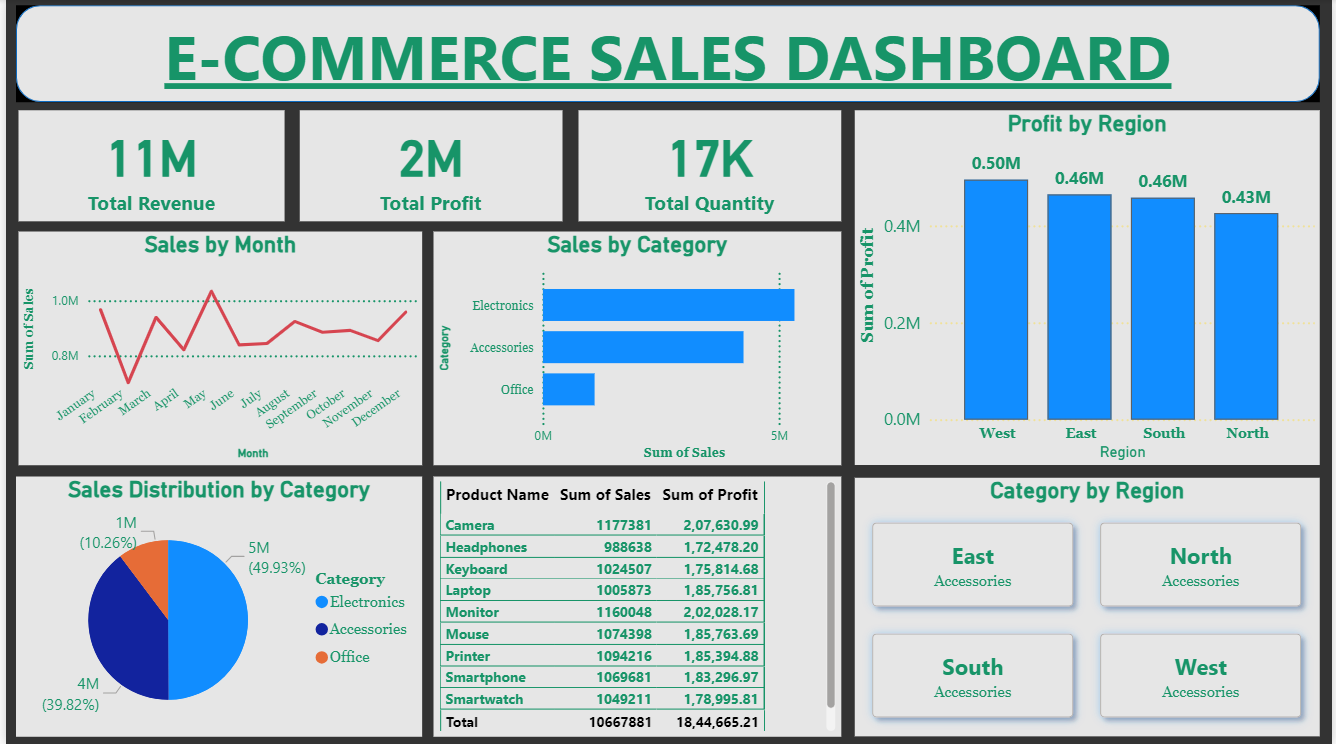

This screenshot's page, from the dashboard's own definition file:
{"tool":"powerbi","page":{"name":"Page 1","canvas":[1280,720],"ordinal":0},"visuals":[{"type":"card","fields":{"Values":["ecommerce_sales_data.Total Revenue"]},"box":[12.1,107.4,257,107.4],"z":0},{"type":"card","fields":{"Values":["ecommerce_sales_data.Total Profit"]},"box":[283.5,107.4,253.4,107.4],"z":1000},{"type":"card","fields":{"Values":["ecommerce_sales_data.Total Quantity"]},"box":[552.5,107.4,253.4,107.4],"z":2000},{"type":"lineChart","title":"Sales by Month","fields":{"Category":["ecommerce_sales_data.Order Date.Variation.Date Hierarchy.Month"],"Y":["Sum(ecommerce_sales_data.Sales)"]},"box":[12.1,224.4,389.7,225.6],"z":3000},{"type":"clusteredBarChart","title":"Sales by Category","fields":{"Category":["ecommerce_sales_data.Category"],"Y":["Sum(ecommerce_sales_data.Sales)"]},"box":[412.6,224.4,393.3,225.6],"z":4000},{"type":"pieChart","title":"Sales Distribution by Category","fields":{"Category":["ecommerce_sales_data.Category"],"Y":["Sum(ecommerce_sales_data.Sales)"]},"box":[9.7,460.9,392.1,250.9],"z":5000},{"type":"tableEx","fields":{"Values":["ecommerce_sales_data.Product Name","Sum(ecommerce_sales_data.Sales)","Sum(ecommerce_sales_data.Profit)"]},"box":[412.6,460.9,393.3,250.9],"z":6000},{"type":"columnChart","title":"Profit by Region","fields":{"Category":["ecommerce_sales_data.Region"],"Y":["Sum(ecommerce_sales_data.Profit)"]},"box":[819.2,107.4,448.8,342.6],"z":7000},{"type":"advancedSlicerVisual","title":"Category by Region","fields":{"Values":["ecommerce_sales_data.Region"],"Label":["Min(ecommerce_sales_data.Category)"]},"box":[819.2,462.1,448.8,249.7],"z":8000},{"type":"shape","box":[9.6,5.5,1258.3,93.3],"z":9000}]}

Visuals, with their boxes in screenshot pixels (x1, y1, x2, y2), scaled from the page's 1280x720 canvas onto the 1336x744 screenshot:
card - ecommerce_sales_data.Total Revenue: x1=13, y1=111, x2=281, y2=222
card - ecommerce_sales_data.Total Profit: x1=296, y1=111, x2=560, y2=222
card - ecommerce_sales_data.Total Quantity: x1=577, y1=111, x2=841, y2=222
"Sales by Month" lineChart: x1=13, y1=232, x2=419, y2=465
"Sales by Category" clusteredBarChart: x1=431, y1=232, x2=841, y2=465
"Sales Distribution by Category" pieChart: x1=10, y1=476, x2=419, y2=736
tableEx - ecommerce_sales_data.Product Name x Sum(ecommerce_sales_data.Sales): x1=431, y1=476, x2=841, y2=736
"Profit by Region" columnChart: x1=855, y1=111, x2=1323, y2=465
"Category by Region" advancedSlicerVisual: x1=855, y1=478, x2=1323, y2=736
shape: x1=10, y1=6, x2=1323, y2=102
